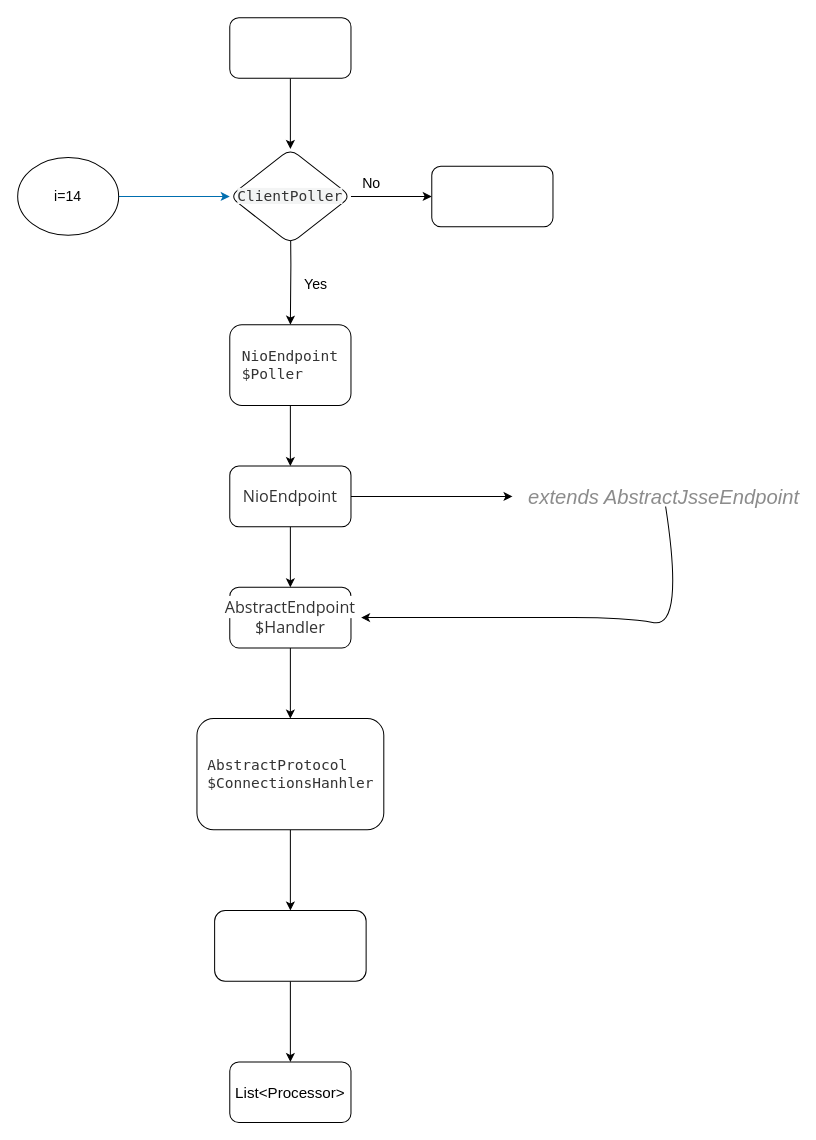
Image size: 816x1140. Some labels were removed from this diagram. The centre of each missing label's shape, as x and y in pixels:
Pass: the point at 492,196
RequestGroupInfo: the point at 290,945
Thread: the point at 290,47
